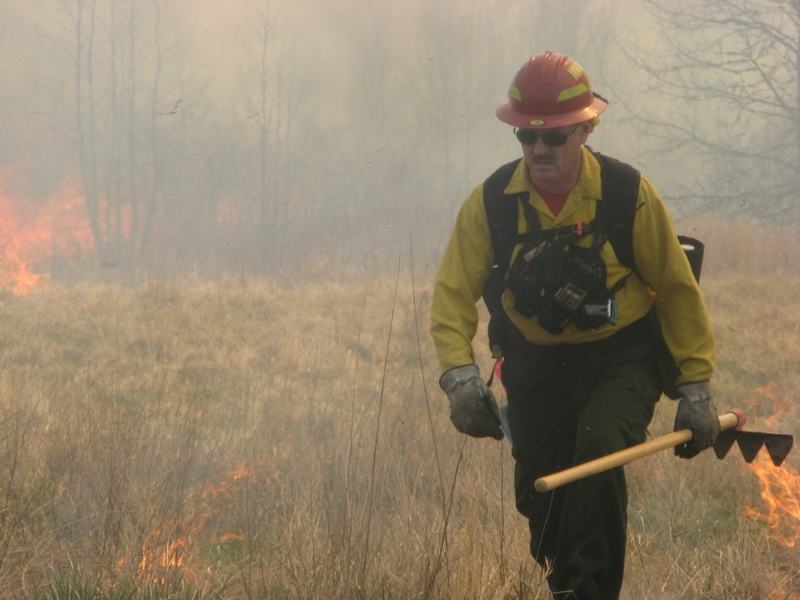helmet: (491, 48, 604, 128)
